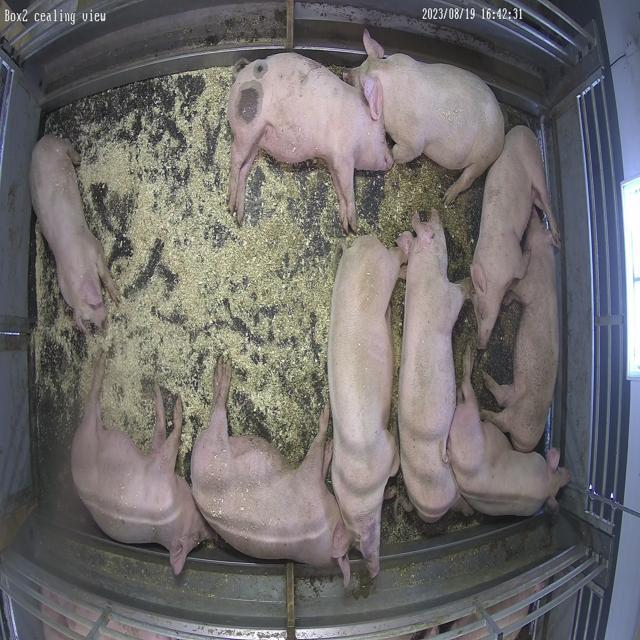Dirt: (356, 158, 486, 283), (474, 303, 522, 410), (454, 300, 477, 382), (393, 281, 404, 368)
Pig: (71, 353, 211, 576), (191, 360, 340, 568), (228, 53, 394, 232), (346, 33, 505, 204), (328, 236, 405, 578), (398, 209, 465, 524), (448, 352, 571, 516), (472, 125, 559, 350), (482, 210, 560, 452)
